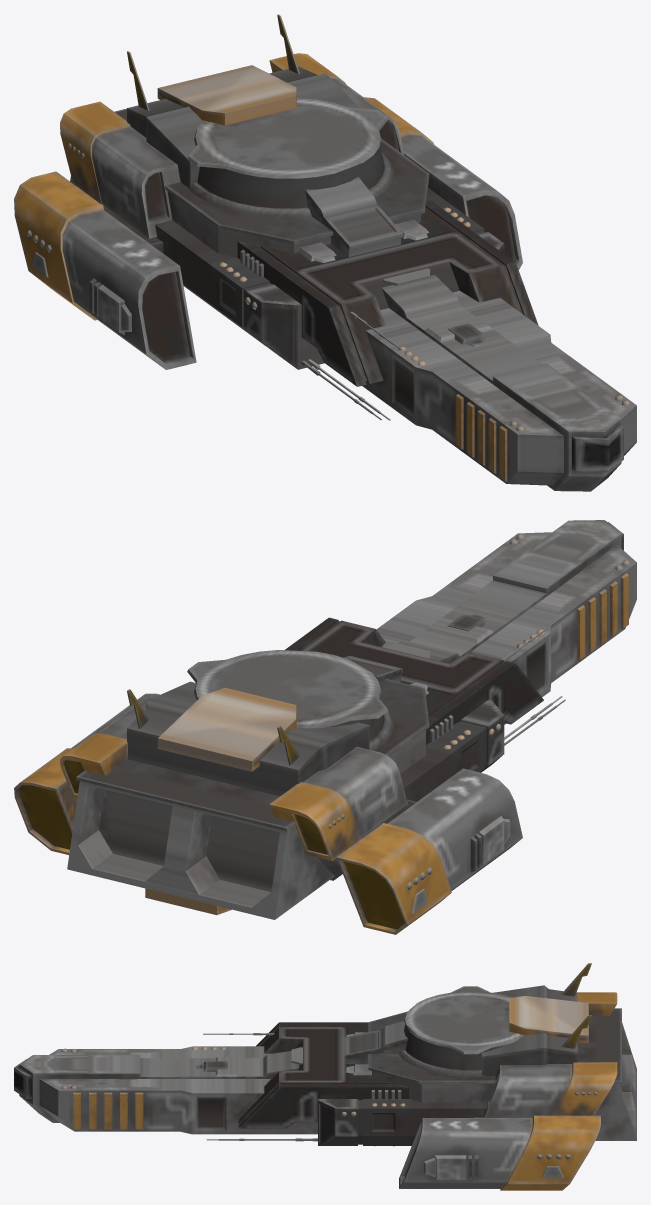
The model's file is assets__resources__models-low__ships__bomber.glb.
3 views of the same model, one above another, from view 1: azimuth 30°, elevation 25°; view 2: azimuth 150°, elevation 25°; view 3: azimuth 270°, elevation 25° (orthographic). The views are drawn at different scales.
Parts seen in each view (by area): view 1: Insurgent; view 2: Insurgent; view 3: Insurgent.
Boxes of the visible parts, x1,y1,x2,y2 form: Insurgent: (14,14,636,491); Insurgent: (14,520,636,934); Insurgent: (14,963,636,1190).
Size of the model in its own units: 5.57 by 2.87 by 10.95.
1 material, 1 textured.
